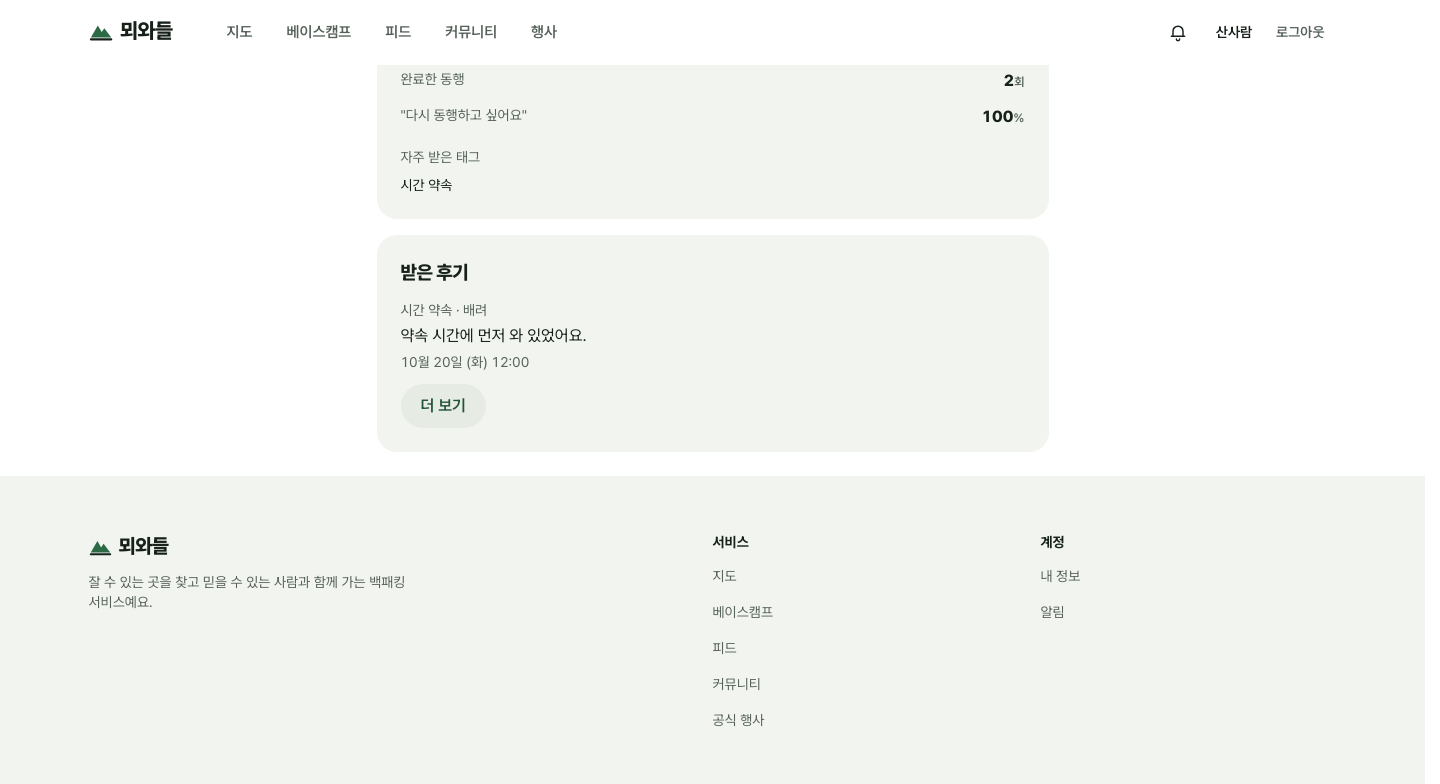
it: 회원 프로필: 받은 후기 › 다음 쪽이 있으면 더 보기로 이어서 불러온다
This screenshot has width=1440, height=784.
(page scrolled)
Click the button "더 보기". click: (443, 406)
box: 400,384 -> 486,428
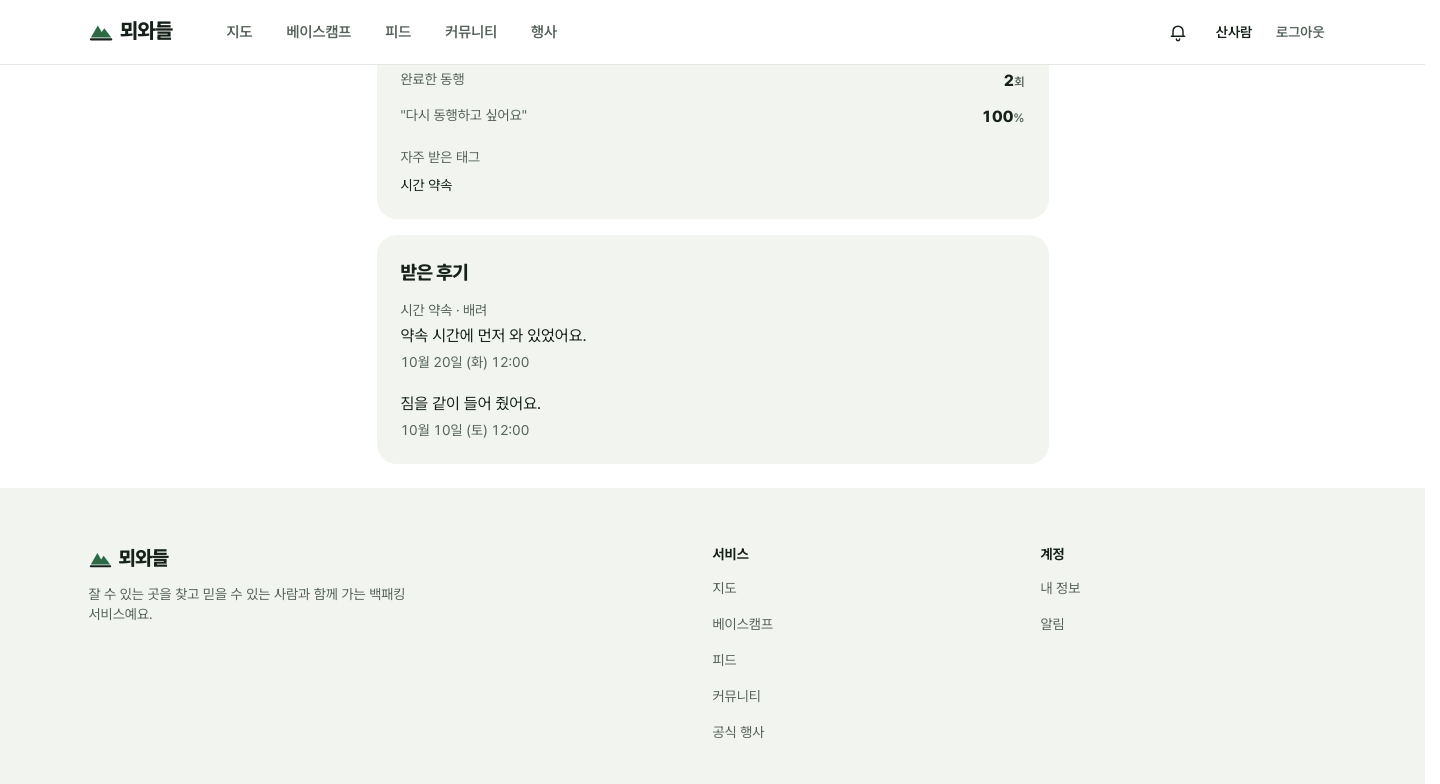
Expected: the text "약속 시간에 먼저 와 있었어요." is shown, 400,326 -> 587,344
Result: the text "짐을 같이 들어 줬어요." is shown at 400,394 -> 541,412
